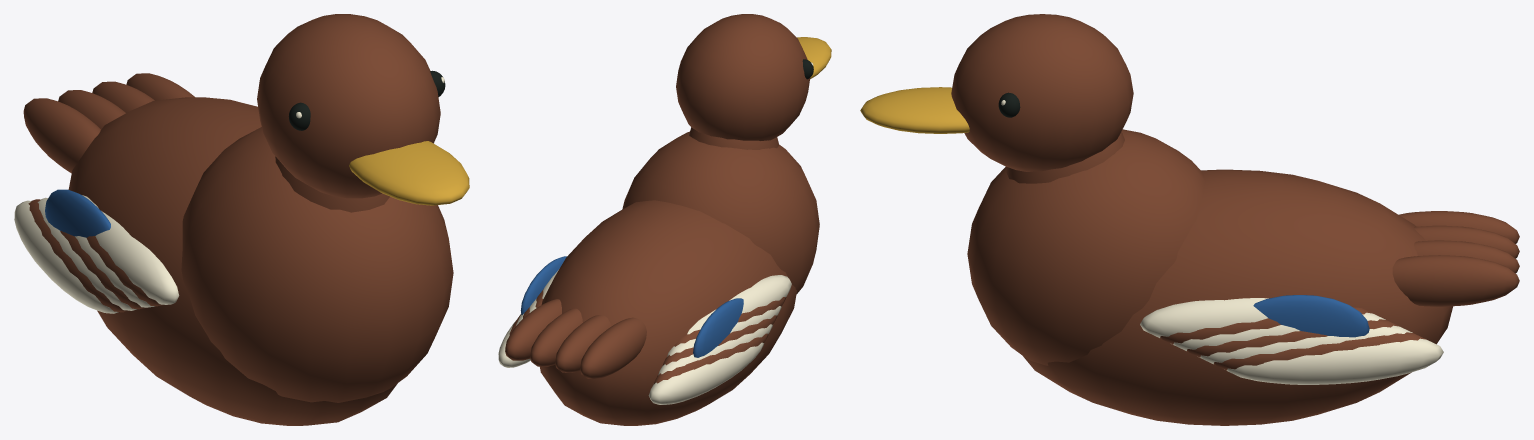
Rendered from duck-female.glb.
The picture shows the model from 3 angles, left to right: view 1: azimuth 30°, elevation 25°; view 2: azimuth 150°, elevation 25°; view 3: azimuth 270°, elevation 25°; orthographic projection. The views are drawn at different scales.
Visible parts, largest first — view 1: Breast.001, Body.001, Head.001, Bill.001, Tail feather.004, Layered wing feather.014, Layered wing feather.020, Blue wing bar.002, Neck.001, Tail feather.005, Layered wing feather.019, Tail feather.007 (+6 smaller); view 2: Body.001, Breast.001, Head.001, Layered wing feather.020, Tail feather.004, Tail feather.007, Tail feather.005, Tail feather.006, Blue wing bar.002, Layered wing feather.014, Layered wing feather.019, Neck.001 (+7 smaller); view 3: Body.001, Breast.001, Head.001, Layered wing feather.027, Tail feather.007, Bill.001, Blue wing bar.003, Layered wing feather.021, Layered wing feather.026, Tail feather.004, Layered wing feather.025, Tail feather.006 (+5 smaller).
Part boxes in pixels (x1=…): Breast.001: x1=181, y1=127, x2=453, y2=402; Body.001: x1=68, y1=97, x2=397, y2=425; Head.001: x1=257, y1=14, x2=440, y2=198; Bill.001: x1=349, y1=141, x2=469, y2=205; Tail feather.004: x1=23, y1=98, x2=100, y2=173; Layered wing feather.014: x1=82, y1=195, x2=179, y2=304; Layered wing feather.020: x1=14, y1=200, x2=118, y2=313; Blue wing bar.002: x1=45, y1=189, x2=110, y2=237; Neck.001: x1=275, y1=156, x2=390, y2=212; Tail feather.005: x1=58, y1=90, x2=125, y2=129; Layered wing feather.019: x1=28, y1=199, x2=127, y2=312; Tail feather.007: x1=126, y1=73, x2=194, y2=100; Body.001: x1=540, y1=200, x2=796, y2=425; Breast.001: x1=622, y1=131, x2=819, y2=294; Head.001: x1=676, y1=14, x2=810, y2=140; Layered wing feather.020: x1=648, y1=342, x2=764, y2=404; Tail feather.004: x1=580, y1=317, x2=646, y2=378; Tail feather.007: x1=505, y1=299, x2=561, y2=360; Tail feather.005: x1=555, y1=315, x2=611, y2=372; Tail feather.006: x1=530, y1=308, x2=582, y2=366; Blue wing bar.002: x1=693, y1=298, x2=743, y2=357; Layered wing feather.014: x1=687, y1=275, x2=791, y2=334; Layered wing feather.019: x1=654, y1=333, x2=768, y2=383; Neck.001: x1=689, y1=127, x2=778, y2=149; Body.001: x1=1023, y1=169, x2=1452, y2=425; Breast.001: x1=967, y1=129, x2=1205, y2=365; Head.001: x1=951, y1=14, x2=1133, y2=171; Layered wing feather.027: x1=1226, y1=338, x2=1443, y2=384; Tail feather.007: x1=1392, y1=255, x2=1519, y2=306; Bill.001: x1=860, y1=87, x2=969, y2=133; Blue wing bar.003: x1=1253, y1=295, x2=1369, y2=337; Layered wing feather.021: x1=1140, y1=298, x2=1268, y2=337; Layered wing feather.026: x1=1213, y1=332, x2=1426, y2=370; Tail feather.004: x1=1399, y1=211, x2=1519, y2=243; Layered wing feather.025: x1=1199, y1=325, x2=1412, y2=364; Tail feather.006: x1=1414, y1=240, x2=1519, y2=273.
Size of the model in its own units: 0.5427 by 0.81 by 1.23.
